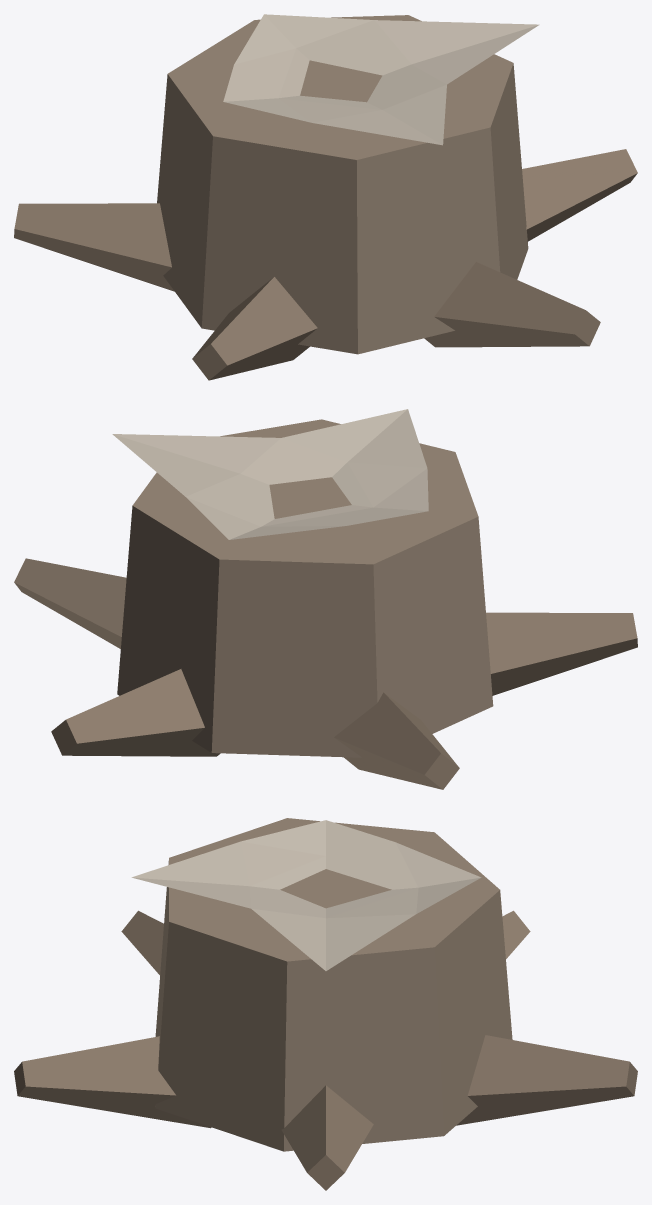
The model's file is stump_v21.glb.
3 views of the same model, one above another, from view 1: azimuth 30°, elevation 25°; view 2: azimuth 150°, elevation 25°; view 3: azimuth 270°, elevation 25° (orthographic). The views are drawn at different scales.
Parts seen in each view (by area): view 1: lod0; view 2: lod0; view 3: lod0.
Part boxes in pixels (box(x1,y1,x2,y2)): lod0: box(14, 14, 637, 380); lod0: box(14, 409, 637, 789); lod0: box(14, 818, 637, 1190).
Size of what is drawn, in the model's own units: 0.8812 by 0.4108 by 0.9227.
